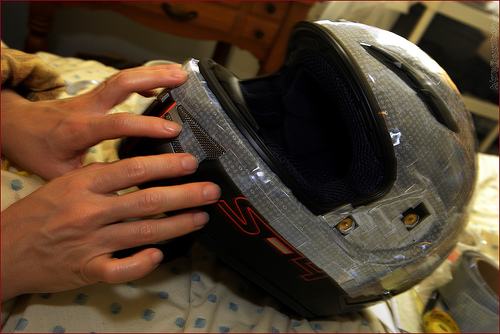helmet: (162, 19, 483, 290)
